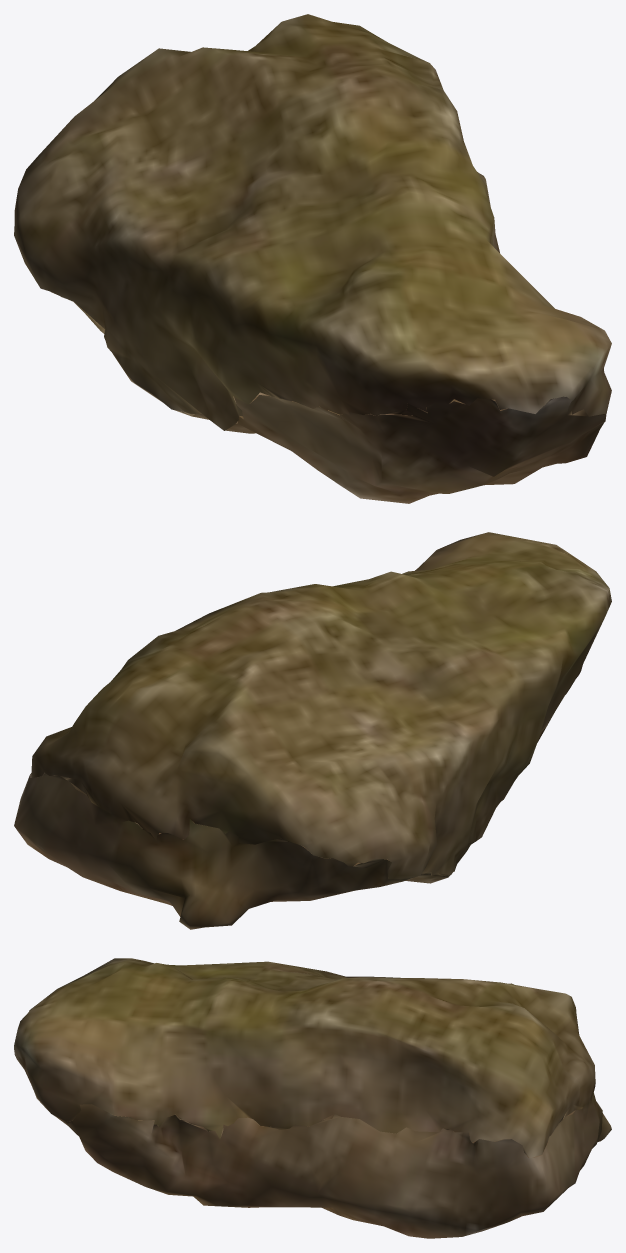
File: rock_moss_f.glb
The picture shows the model from 3 angles, top to bottom: view 1: azimuth 30°, elevation 25°; view 2: azimuth 150°, elevation 25°; view 3: azimuth 270°, elevation 25°; orthographic projection. The views are drawn at different scales.
Parts seen in each view (by area): view 1: rock_moss_set_01_rock05; view 2: rock_moss_set_01_rock05; view 3: rock_moss_set_01_rock05.
Part boxes in pixels (bbox=[...]): rock_moss_set_01_rock05: bbox=[14, 14, 611, 503]; rock_moss_set_01_rock05: bbox=[14, 532, 611, 929]; rock_moss_set_01_rock05: bbox=[14, 958, 611, 1238].
Size of the model in its own units: 1.82 by 1.21 by 2.99.
1 material, 1 textured.
